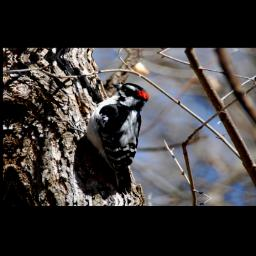Woodpecker: (80, 78, 159, 196)
